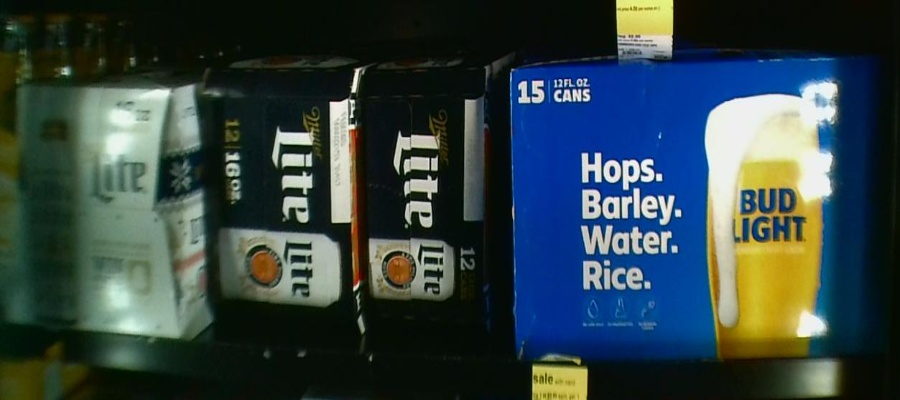bottle: (510, 55, 891, 364), (9, 75, 212, 336), (212, 64, 358, 322), (361, 61, 493, 338)
